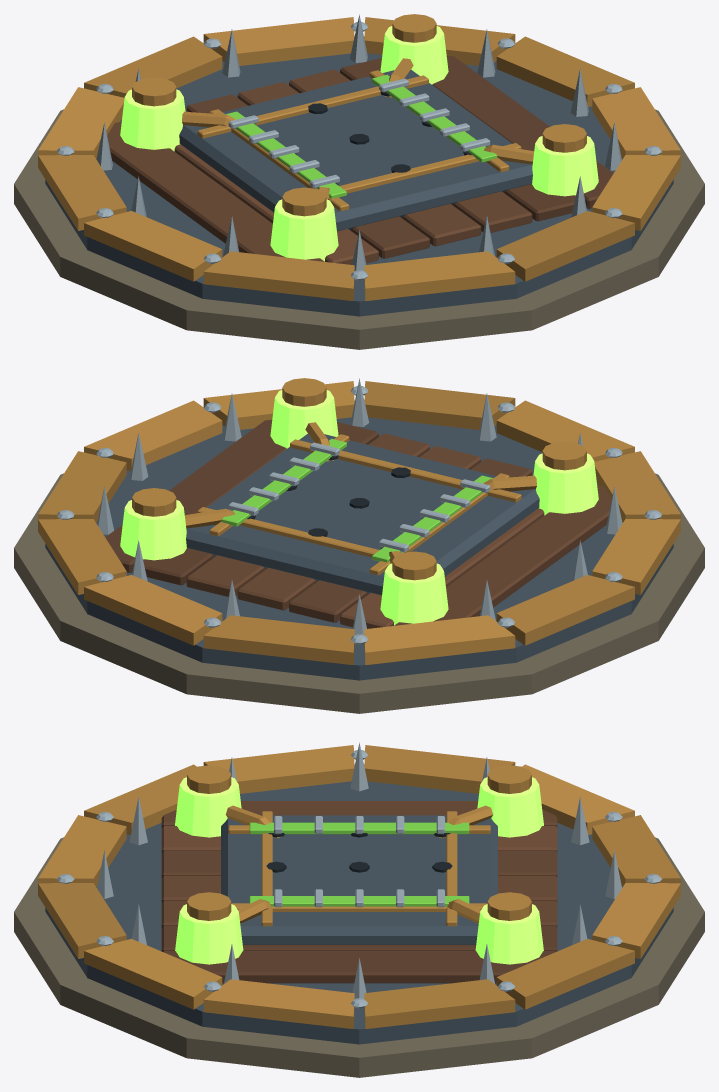
Rendered from trap__toxica__L15.glb.
The picture shows the model from 3 angles, top to bottom: view 1: azimuth 30°, elevation 25°; view 2: azimuth 150°, elevation 25°; view 3: azimuth 270°, elevation 25°; orthographic projection.
Visible parts, largest first — view 1: structure, weapon; view 2: structure, weapon; view 3: structure, weapon.
Boxes of the visible parts, x1,y1,x2,y2 form: structure: (14,17,704,349); weapon: (96,14,621,270); structure: (14,381,704,713); weapon: (97,378,622,634); structure: (14,745,704,1077); weapon: (97,742,621,998).
Size of the model in its own units: 0.8228 by 0.1232 by 0.8228.
